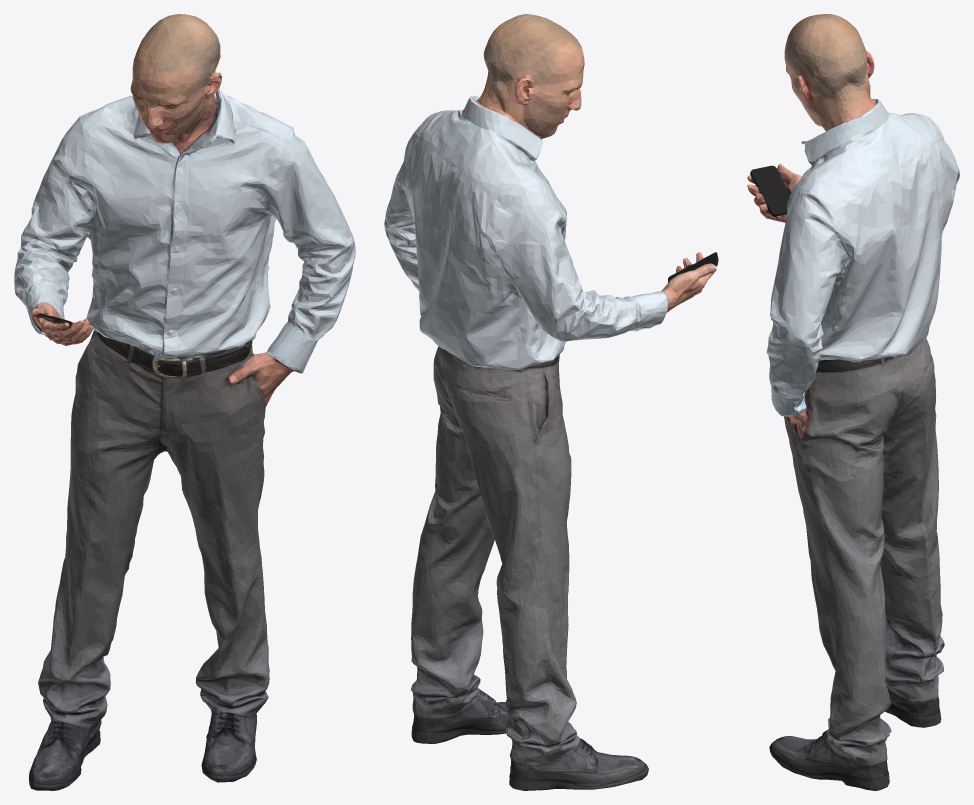
File: man_bald_cellphone.dae
The picture shows the model from 3 angles, left to right: view 1: azimuth 30°, elevation 25°; view 2: azimuth 150°, elevation 25°; view 3: azimuth 270°, elevation 25°; orthographic projection. The views are drawn at different scales.
Parts seen in each view (by area): view 1: node; view 2: node; view 3: node.
Part boxes in pixels (x1,y1,x2,y2): node: [14, 14, 355, 790]; node: [384, 14, 718, 790]; node: [747, 14, 959, 790].
Size of the model in its own units: 30.24 by 65.35 by 17.29.
Materials: 1 (1 with a texture image).
